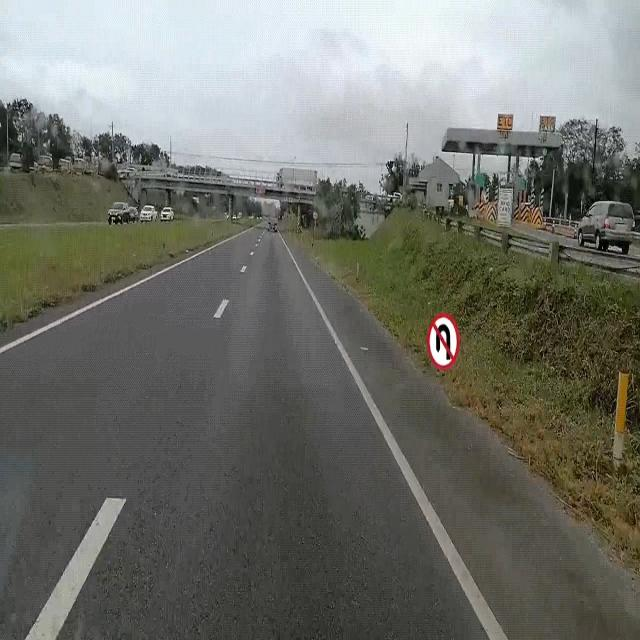Demi-Tour-Interdit: (424, 307, 462, 376)
